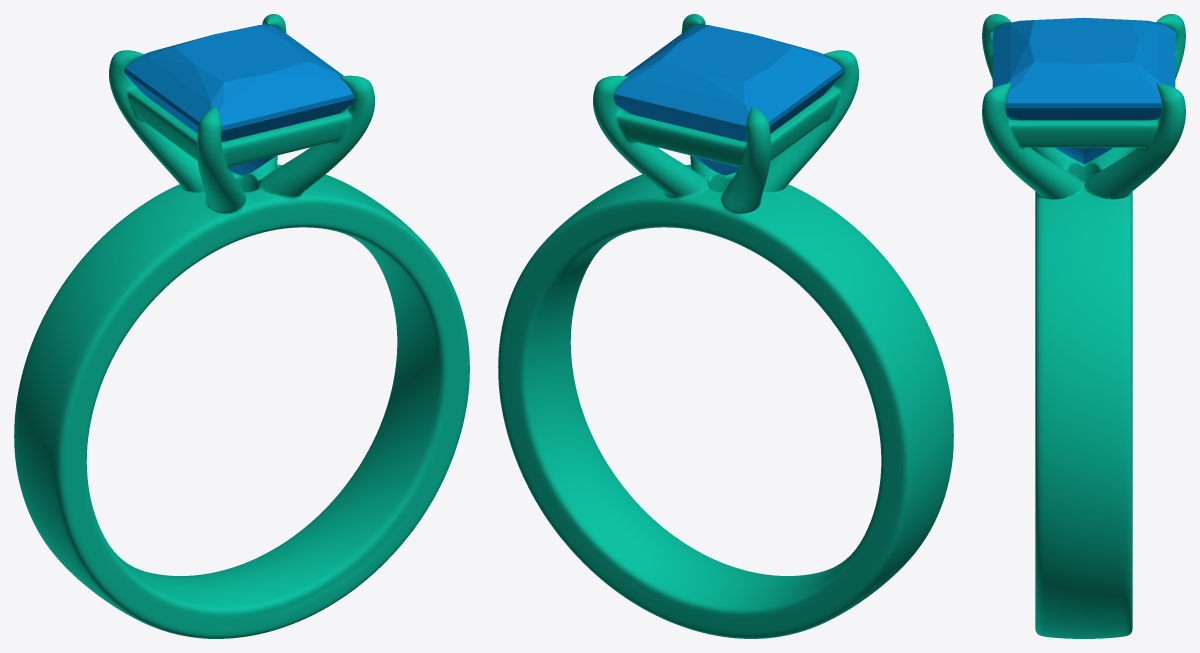
File: BE12148_PR_200ct_RENDER.glb
The picture shows the model from 3 angles, left to right: view 1: azimuth 30°, elevation 25°; view 2: azimuth 150°, elevation 25°; view 3: azimuth 270°, elevation 25°; orthographic projection.
Visible parts, largest first — view 1: Metal 01, CS_Diamond_Princess; view 2: Metal 01, CS_Diamond_Princess; view 3: Metal 01, CS_Diamond_Princess.
Boxes of the visible parts, bbox=[...] form: Metal 01: bbox=[14, 14, 469, 638]; CS_Diamond_Princess: bbox=[124, 25, 354, 175]; Metal 01: bbox=[498, 14, 953, 638]; CS_Diamond_Princess: bbox=[613, 25, 843, 175]; Metal 01: bbox=[982, 14, 1185, 638]; CS_Diamond_Princess: bbox=[992, 17, 1175, 164].
Size of the model in its own units: 20.09 by 26.02 by 8.36.
